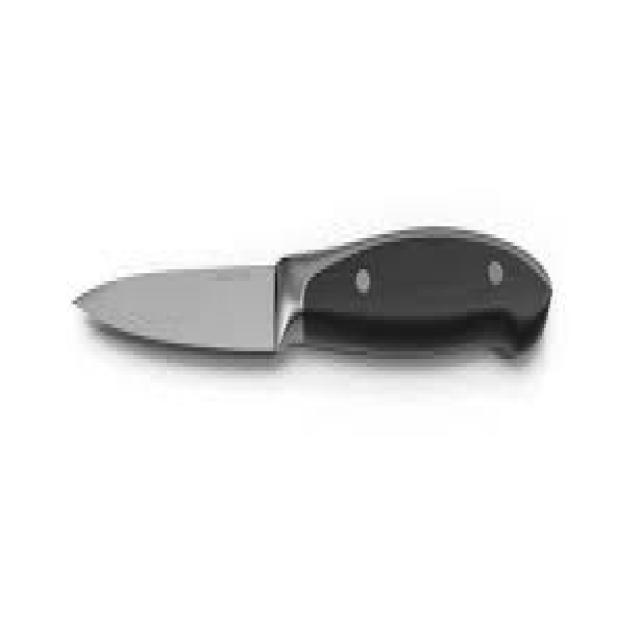Knife: (71, 222, 552, 359)
